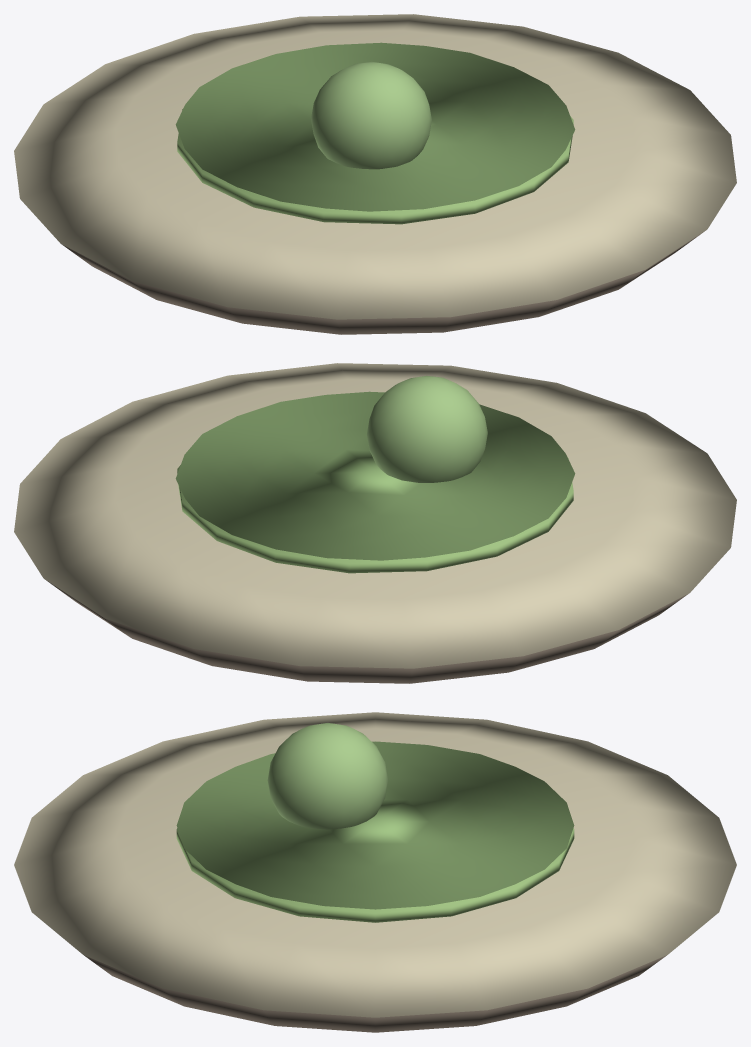
The model's file is terrain_island_04.glb.
The picture shows the model from 3 angles, top to bottom: view 1: azimuth 30°, elevation 25°; view 2: azimuth 150°, elevation 25°; view 3: azimuth 270°, elevation 25°; orthographic projection.
Parts seen in each view (by area): view 1: island_sand, island_grass_dome, hill0, island_base, island_grass_base; view 2: island_sand, island_grass_dome, hill0, island_base, island_grass_base; view 3: island_sand, island_grass_dome, hill0, island_base, island_grass_base.
Part boxes in pixels (x1,y1,x2,y2): island_sand: (14,14,736,319); island_grass_dome: (175,42,575,211); hill0: (311,61,431,169); island_base: (61,231,704,334); island_grass_base: (177,109,573,224); island_sand: (14,363,736,668); island_grass_dome: (175,391,575,560); hill0: (367,375,487,482); island_base: (46,580,689,683); island_grass_base: (177,458,573,573); island_sand: (14,712,736,1017); island_grass_dome: (176,741,574,909); hill0: (267,723,387,829); island_base: (84,955,666,1032); island_grass_base: (176,828,574,922).
Bounding box in the file's own units: 6.5 × 1.52 × 6.5.
